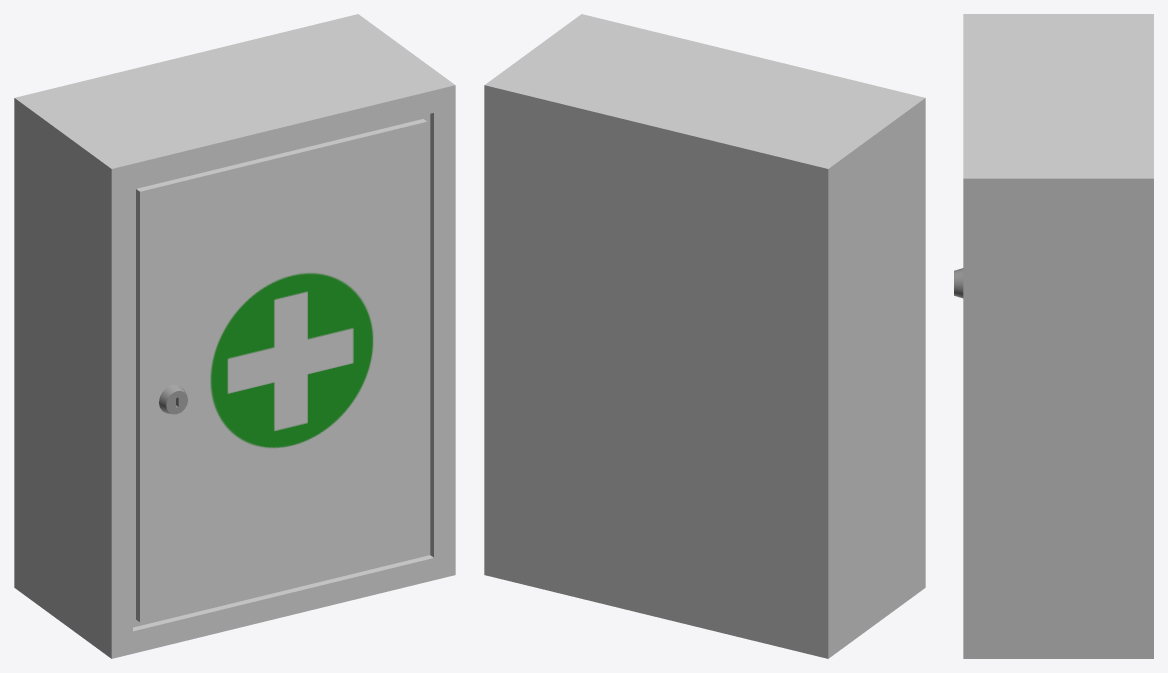
File: uploads_files_4495742_MedicineWallCupboard.fbx
The picture shows the model from 3 angles, left to right: view 1: azimuth 30°, elevation 25°; view 2: azimuth 150°, elevation 25°; view 3: azimuth 270°, elevation 25°; orthographic projection.
Visible parts, largest first — view 1: MedicineWallCupboard; view 2: MedicineWallCupboard; view 3: MedicineWallCupboard.
Boxes of the visible parts, box(x1,y1,x2,y2) form: MedicineWallCupboard: box(14, 14, 455, 658); MedicineWallCupboard: box(484, 14, 925, 658); MedicineWallCupboard: box(954, 14, 1153, 658).
Bounding box in the file's own units: 49.22 × 67.02 × 25.28.
